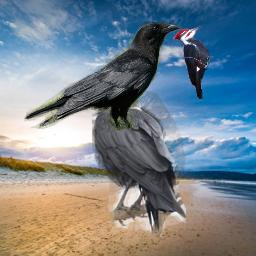Crow: (24, 22, 182, 132), (92, 90, 186, 237)
Woodpecker: (173, 26, 214, 99)
